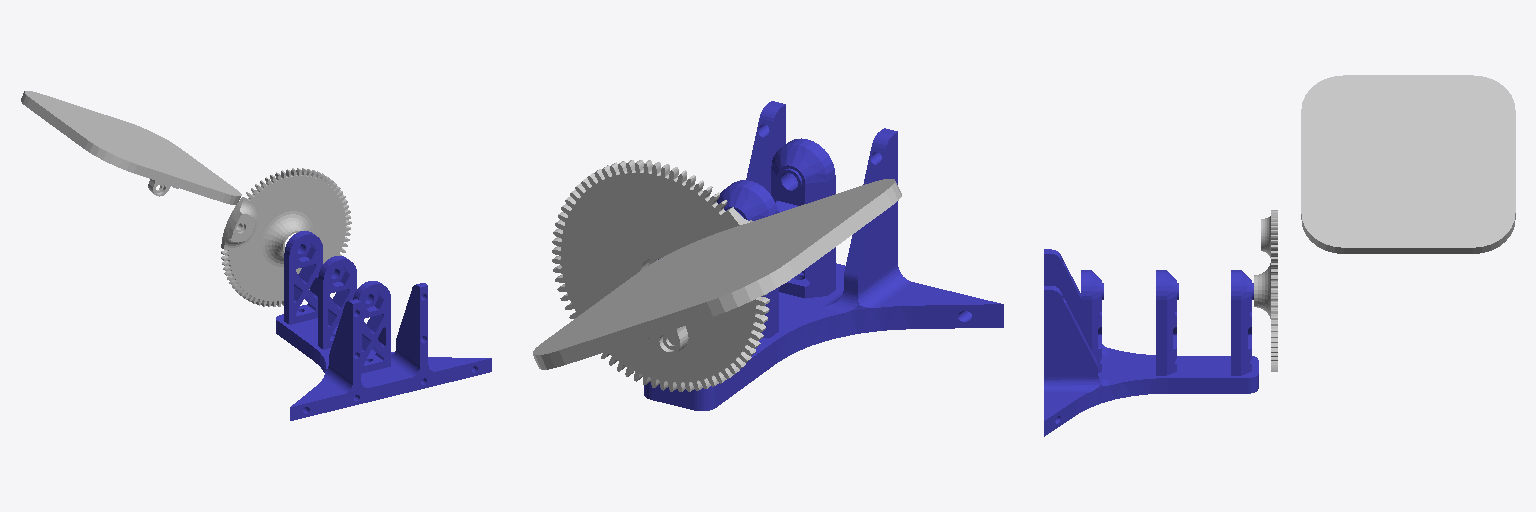
robot.urdf — unnamed:
<robot name="unnamed" version="1.0">
  <joint name="SOLID001_link_joint" type="continuous">
    <limit lower="0" upper="0" effort="0.00000" velocity="0.00000"/>
    <origin rpy="0.00000 0.00000 0.00000" xyz="-0.35193 -0.19263 0.42188"/>
    <parent link="ZahnradGross004_link"/>
    <child link="SOLID001_link"/>
    <axis xyz="0.00000 0.00000 1.00000"/>
  </joint>
  <joint name="ZahnradGross003_link_joint" type="continuous">
    <limit lower="0" upper="0" effort="0.00000" velocity="0.00000"/>
    <origin rpy="-1.57080 0.00000 0.00000" xyz="-0.00000 0.69593 0.55439"/>
    <parent link="Body001_link"/>
    <child link="ZahnradGross003_link"/>
    <axis xyz="0.00000 0.00000 1.00000"/>
  </joint>
  <joint name="ZahnradGross004_link_joint" type="continuous">
    <limit lower="0" upper="0" effort="0.00000" velocity="0.00000"/>
    <origin rpy="0.00000 0.00000 0.00000" xyz="-0.35885 -0.17906 0.12975"/>
    <parent link="ZahnradGross003_link"/>
    <child link="ZahnradGross004_link"/>
    <axis xyz="0.00000 0.00000 1.00000"/>
  </joint>
  <link name="Body001_link">
    <collision name="Base_collision">
      <origin rpy="0.00000 0.00000 0.00000" xyz="0.00000 0.00000 0.00000"/>
      <geometry>
        <mesh filename="package://unnamed/meshes/stl/Body.stl" scale="11.79544 11.79544 11.79544"/>
      </geometry>
    </collision>
    <inertial>
      <inertia ixx="1.41731" ixy="0.00042" ixz="0.00026" iyy="0.62211" iyz="-0.12034" izz="1.39114"/>
      <origin rpy="0.00000 0.00000 0.00000" xyz="0.00000 -0.14993 0.17821"/>
      <mass value="10.00000"/>
    </inertial>
    <visual name="Base">
      <origin rpy="0.00000 0.00000 0.00000" xyz="0.00000 0.00000 0.00000"/>
      <material name="Material.001"/>
      <geometry>
        <mesh filename="package://unnamed/meshes/stl/Body.stl" scale="11.79544 11.79544 11.79544"/>
      </geometry>
    </visual>
  </link>
  <link name="SOLID001_link">
    <collision name="SOLID001_collision">
      <origin rpy="1.50960 1.57080 0.43890" xyz="0.07336 -0.08760 0.19316"/>
      <geometry>
        <box size="1.18397 1.13183 0.09876"/>
      </geometry>
    </collision>
    <inertial>
      <inertia ixx="0.10421" ixy="-0.00000" ixz="0.00000" iyy="0.09681" iyz="0.00768" izz="0.19068"/>
      <origin rpy="0.00000 0.00000 0.00000" xyz="0.05006 -0.08470 0.16790"/>
      <mass value="1.00000"/>
    </inertial>
    <visual name="SOLID001">
      <origin rpy="1.07071 1.57080 0.00000" xyz="0.03393 -0.06178 0.16789"/>
      <material name="Material.004"/>
      <geometry>
        <mesh filename="package://unnamed/meshes/stl/SOLID.stl" scale="11.79544 11.79544 11.79544"/>
      </geometry>
    </visual>
  </link>
  <link name="ZahnradGross003_link">
    <collision name="ZahnradGross003_collision">
      <origin rpy="-3.14159 0.00000 -1.10796" xyz="-0.00004 -0.00002 -0.02198"/>
      <geometry>
        <mesh filename="package://unnamed/meshes/stl/Cylinder.001.stl" scale="1.00474 1.00474 0.36513"/>
      </geometry>
    </collision>
    <inertial>
      <inertia ixx="0.08436" ixy="-0.00176" ixz="-0.00000" iyy="0.03283" iyz="-0.00000" izz="0.05282"/>
      <origin rpy="0.00000 0.00000 0.00000" xyz="-0.02288 -0.01142 -0.02431"/>
      <mass value="1.00000"/>
    </inertial>
    <visual name="ZahnradGross003">
      <origin rpy="-2.03363 1.57080 0.00000" xyz="-0.00000 -0.00000 0.00000"/>
      <material name="Material.002"/>
      <geometry>
        <mesh filename="package://unnamed/meshes/stl/ZahnradGross.stl" scale="11.79544 11.79544 11.79544"/>
      </geometry>
    </visual>
  </link>
  <link name="ZahnradGross004_link">
    <collision name="ZahnradGross004_collision">
      <origin rpy="-3.14159 0.00000 -1.07071" xyz="-0.00004 -0.00002 -0.02254"/>
      <geometry>
        <cylinder radius="0.45900" length="0.05712"/>
      </geometry>
    </collision>
    <inertial>
      <inertia ixx="0.08436" ixy="-0.00176" ixz="-0.00000" iyy="0.03283" iyz="-0.00000" izz="0.05282"/>
      <origin rpy="0.00000 0.00000 0.00000" xyz="-0.02244 -0.01226 -0.02431"/>
      <mass value="1.00000"/>
    </inertial>
    <visual name="ZahnradGross004">
      <origin rpy="-0.14637 1.57080 1.92452" xyz="0.00000 0.00000 -0.00000"/>
      <material name="Material.003"/>
      <geometry>
        <mesh filename="package://unnamed/meshes/stl/ZahnradGross.001.stl" scale="11.79544 11.79545 11.79545"/>
      </geometry>
    </visual>
  </link>
  <material name="Material.001">
    <color rgba="0.30980 0.30196 0.80000 1.00000"/>
  </material>
  <material name="Material.002">
    <color rgba="0.80000 0.80000 0.80000 1.00000"/>
  </material>
  <material name="Material.003">
    <color rgba="0.80000 0.80000 0.80000 1.00000"/>
  </material>
  <material name="Material.004">
    <color rgba="0.80000 0.80000 0.80000 1.00000"/>
  </material>
</robot>

--- Facts derived from the render (not from the file) ---
Views: 3 orthographic renders of the robot side by side, from view 1: azimuth 30°, elevation 25°; view 2: azimuth 150°, elevation 25°; view 3: azimuth 270°, elevation 25°.
Model unnamed with 4 links and 3 joints (3 continuous), rooted at Body001_link, posed all joints at 0.
Links seen in each view (by area): view 1: Body001_link, ZahnradGross003_link, SOLID001_link; view 2: Body001_link, ZahnradGross003_link, SOLID001_link; view 3: SOLID001_link, Body001_link, ZahnradGross003_link.
Link boxes in pixels (x1,y1,x2,y2): Body001_link: (276,231,491,420); ZahnradGross003_link: (221,168,351,306); SOLID001_link: (21,91,241,204); Body001_link: (644,101,1003,410); ZahnradGross003_link: (552,160,769,391); SOLID001_link: (533,179,901,369); SOLID001_link: (1301,75,1515,253); Body001_link: (1044,249,1258,436); ZahnradGross003_link: (1254,210,1277,371).
Size in the robot's own frame: 1.9 by 2.6 by 1.32 metres.
3 mesh visuals loaded from 4 distinct referenced files (3 binary STL); not drawn: 1 (reference not matched to a file when rendering).